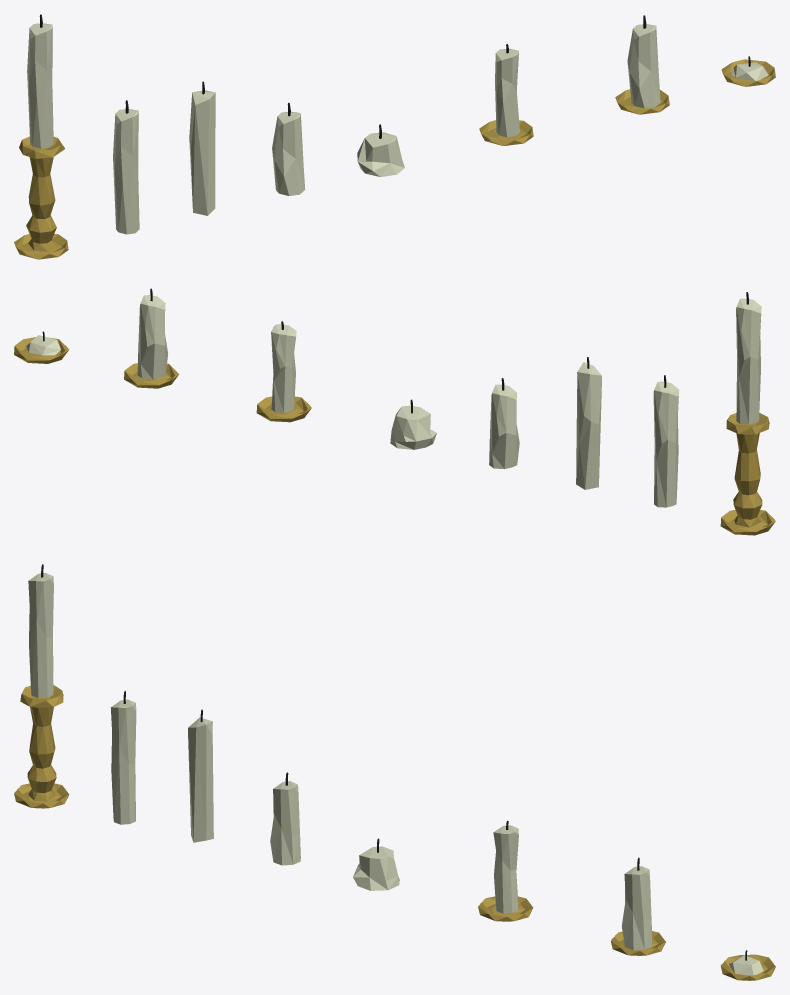
File: CandlesCollection.fbx
3 views of the same model, one above another, from view 1: azimuth 30°, elevation 25°; view 2: azimuth 150°, elevation 25°; view 3: azimuth 330°, elevation 25° (orthographic).
Parts seen in each view (by area): view 1: Candle_long, Candle_v2, Candle_v1, Candle_with_pot_v2, Candle_with_pot_v1, Candle_v3, Candle_v4, Candle_with_pot_v3; view 2: Candle_long, Candle_v1, Candle_v2, Candle_with_pot_v2, Candle_with_pot_v1, Candle_v3, Candle_v4, Candle_with_pot_v3; view 3: Candle_long, Candle_v1, Candle_v2, Candle_with_pot_v2, Candle_with_pot_v1, Candle_v3, Candle_v4, Candle_with_pot_v3.
Boxes of the visible parts, box(x1,y1,x2,y2) form: Candle_long: box(14, 14, 68, 259); Candle_v2: box(189, 81, 215, 215); Candle_v1: box(113, 100, 139, 234); Candle_with_pot_v2: box(615, 15, 669, 114); Candle_with_pot_v1: box(479, 44, 533, 145); Candle_v3: box(272, 102, 305, 195); Candle_v4: box(357, 124, 404, 176); Candle_with_pot_v3: box(721, 56, 775, 86); Candle_long: box(720, 292, 775, 535); Candle_v1: box(653, 375, 679, 507); Candle_v2: box(576, 357, 601, 489); Candle_with_pot_v2: box(124, 288, 179, 388); Candle_with_pot_v1: box(256, 321, 311, 422); Candle_v3: box(489, 378, 519, 469); Candle_v4: box(390, 399, 436, 449); Candle_with_pot_v3: box(14, 331, 69, 363); Candle_long: box(14, 564, 68, 808); Candle_v1: box(110, 691, 136, 824); Candle_v2: box(188, 709, 213, 842); Candle_with_pot_v2: box(611, 857, 665, 955); Candle_with_pot_v1: box(478, 820, 533, 921); Candle_v3: box(270, 772, 300, 865); Candle_v4: box(353, 838, 399, 890); Candle_with_pot_v3: box(720, 950, 775, 980).
Size of the model in its own units: 541 by 37.74 by 162.
